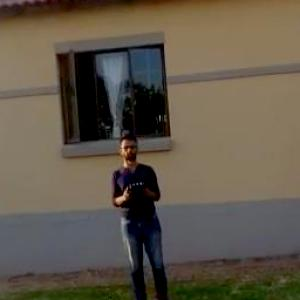follow: (108, 129, 178, 299)
